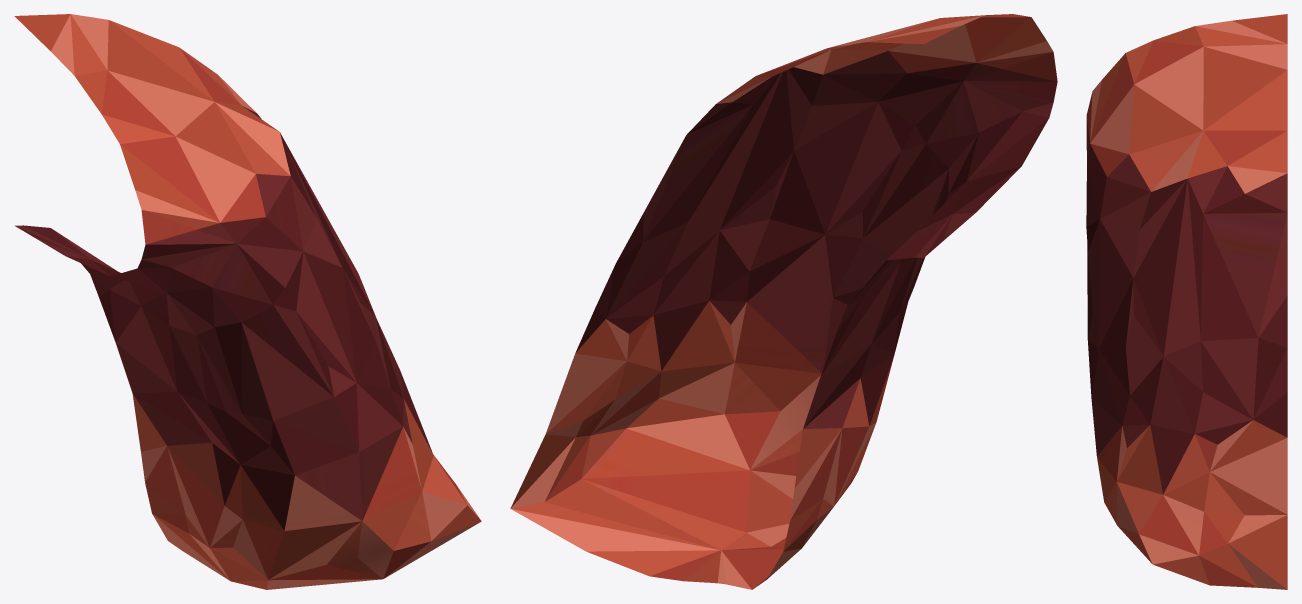
File: Tunnel_Corner_Piece_R_Front.fbx
3 views of the same model, side by side, from view 1: azimuth 30°, elevation 25°; view 2: azimuth 150°, elevation 25°; view 3: azimuth 270°, elevation 25° (orthographic). The views are drawn at different scales.
Visible parts, largest first — view 1: polySurface18; view 2: polySurface18; view 3: polySurface18.
Part boxes in pixels (<box>): polySurface18: <box>14,14,481,589</box>; polySurface18: <box>510,14,1057,589</box>; polySurface18: <box>1086,14,1287,589</box>.
Size of the model in its own units: 616 by 853 by 346.
